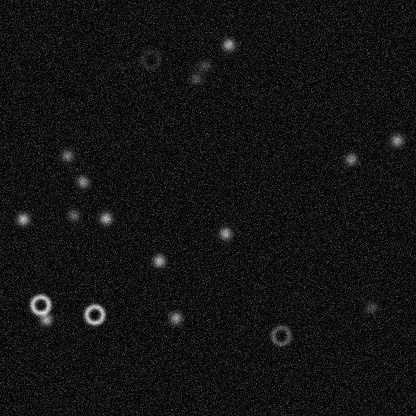Ring: (138, 47, 162, 71), (268, 323, 292, 347), (82, 302, 106, 326), (28, 292, 52, 316)
Spot: (217, 225, 233, 241), (97, 210, 113, 226), (220, 36, 236, 52), (65, 207, 81, 223), (74, 173, 90, 189), (167, 309, 183, 325), (187, 70, 203, 86), (14, 210, 30, 226), (59, 147, 75, 163), (150, 252, 166, 268), (362, 299, 378, 315), (342, 151, 358, 167), (196, 57, 212, 73), (388, 132, 404, 148), (37, 311, 53, 327)
